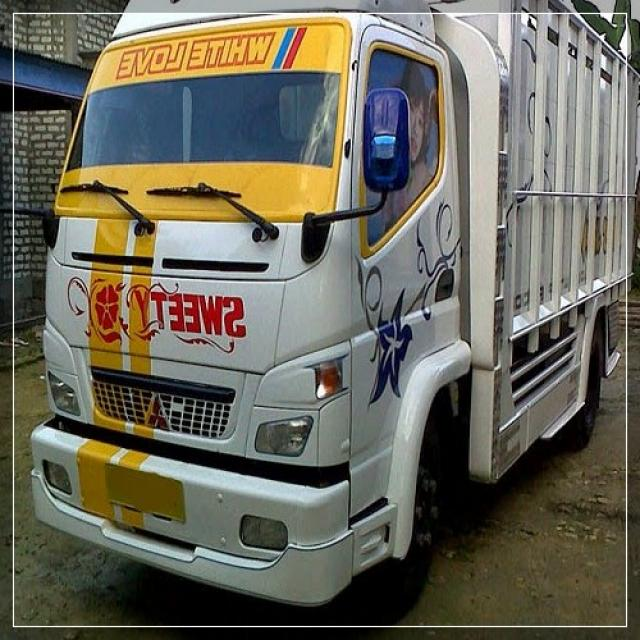truck: (26, 0, 638, 613)
